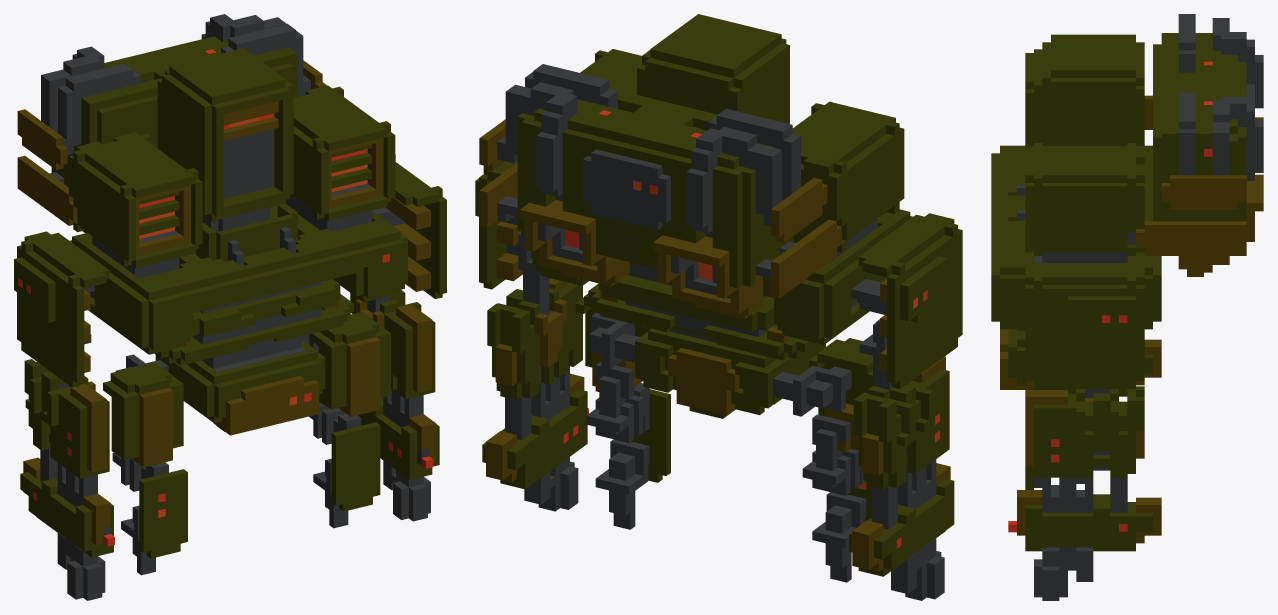
Rendered from MechaTrooper.glb.
3 renders of one model, left to right at view 1: azimuth 30°, elevation 25°; view 2: azimuth 150°, elevation 25°; view 3: azimuth 270°, elevation 25°, orthographic. The views are drawn at different scales.
Size of the model in its own units: 0.078 by 0.09 by 0.048.
